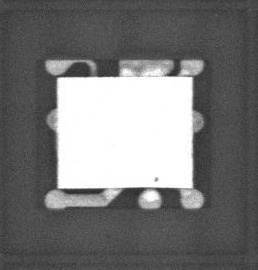DIE_INK: (145, 183, 152, 192)
